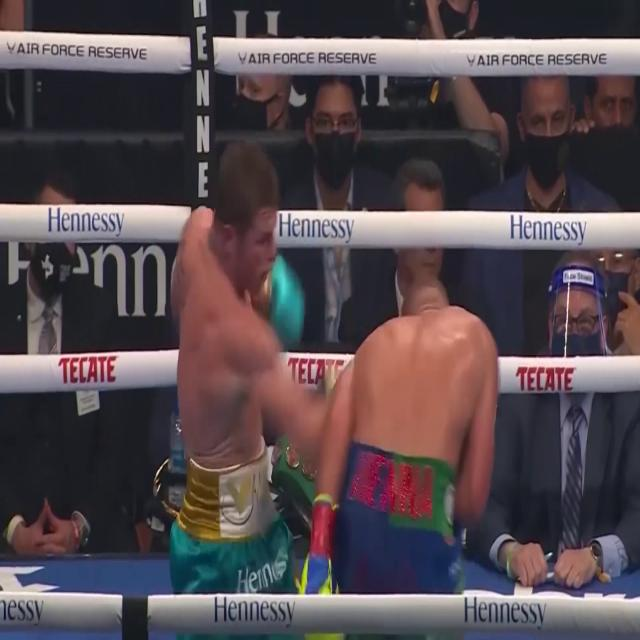boxer_1: (353, 268, 489, 465)
boxer_2: (176, 137, 278, 472)
gloves_1: (297, 496, 345, 640)
gloves_2: (256, 255, 307, 351)
